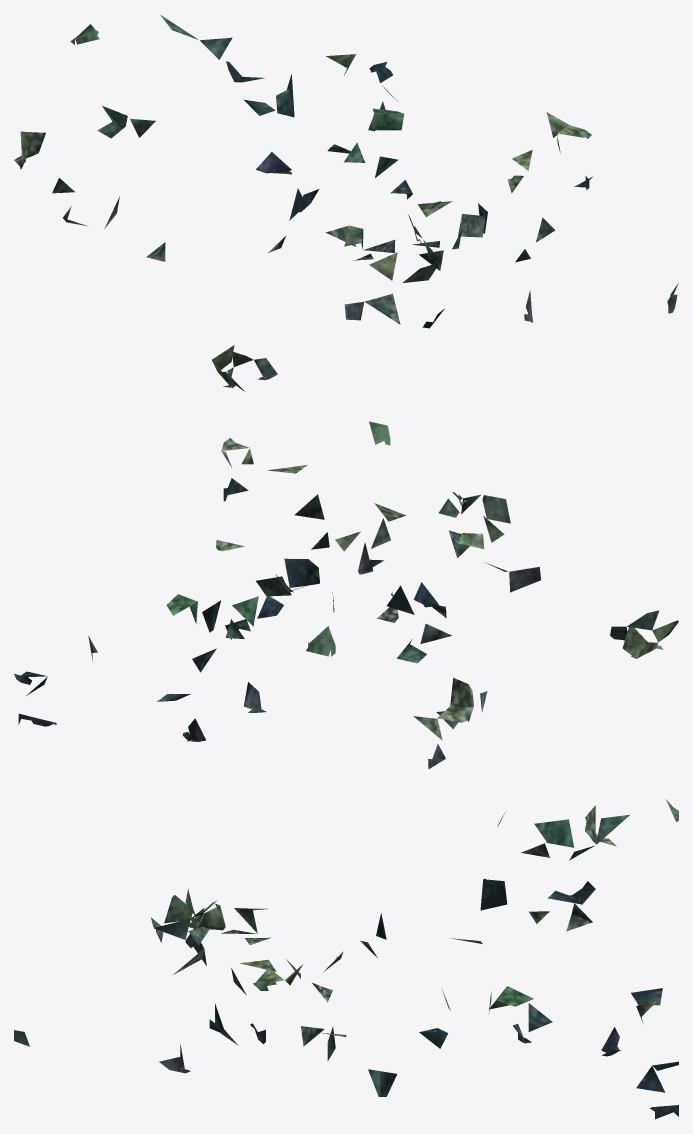
3 views of the same model, one above another, from view 1: azimuth 30°, elevation 25°; view 2: azimuth 150°, elevation 25°; view 3: azimuth 270°, elevation 25° (orthographic).
Parts seen in each view (by area): view 1: 30436272704370425437_1; view 2: 30436272704370425437_1; view 3: 30436272704370425437_1.
Part boxes in pixels (<box>): 30436272704370425437_1: <box>14,15,678,391</box>; 30436272704370425437_1: <box>14,421,678,768</box>; 30436272704370425437_1: <box>14,799,678,1119</box>.
Bounding box in the file's own units: 27.62 × 11.56 × 38.26.
Materials: 1 (1 with a texture image).
